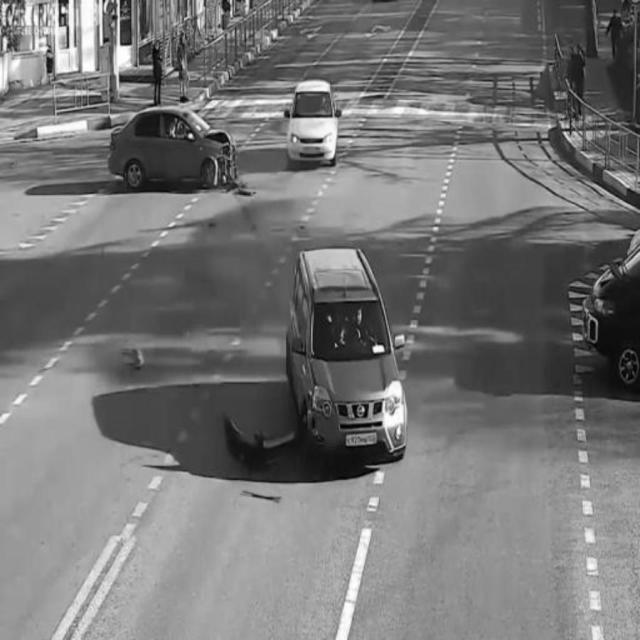person: (566, 29, 592, 110), (145, 34, 170, 101), (175, 14, 191, 102), (604, 6, 629, 62)
vehicle: (279, 243, 415, 451), (105, 97, 241, 189), (586, 235, 640, 377), (282, 75, 343, 169)
